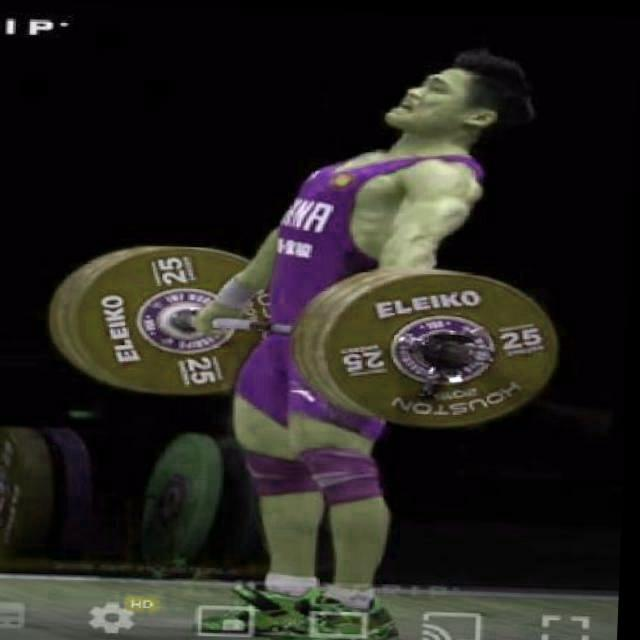barbell: (313, 263, 567, 430)
